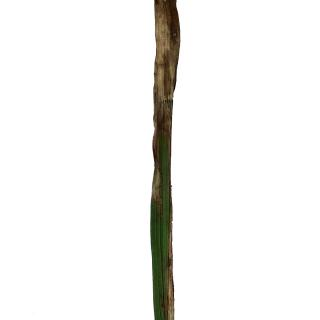Hawar-Daun: (153, 76, 174, 206), (157, 2, 180, 78), (161, 231, 179, 320)
